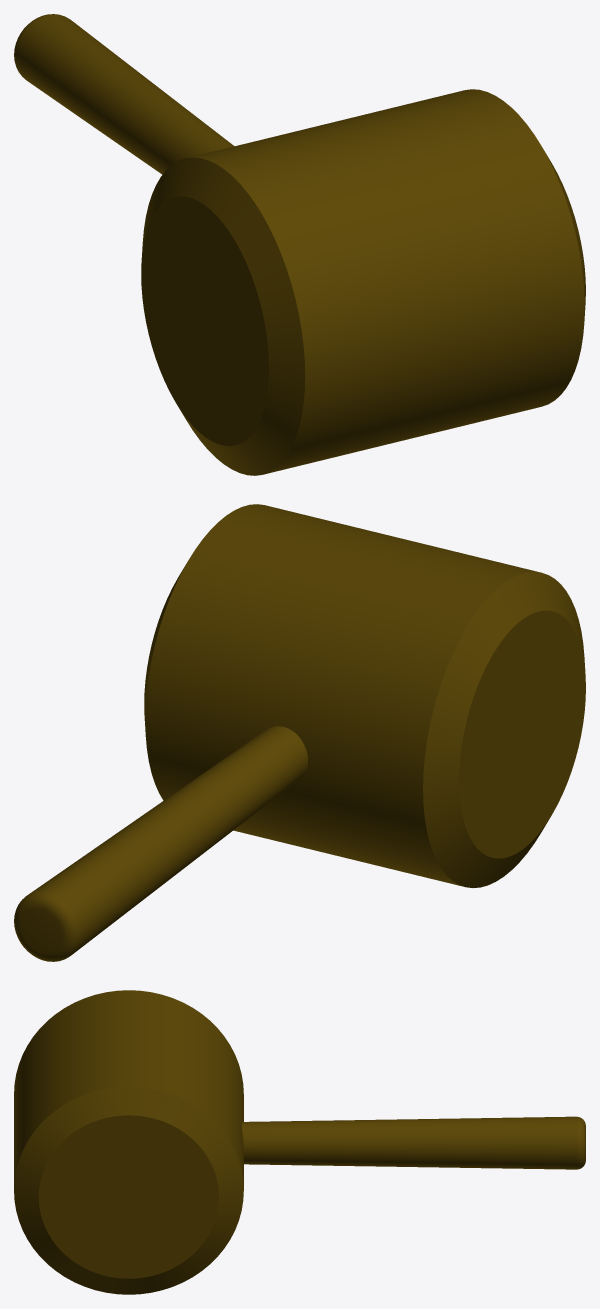
3 renders of one model, top to bottom at view 1: azimuth 30°, elevation 25°; view 2: azimuth 150°, elevation 25°; view 3: azimuth 270°, elevation 25°, orthographic. The views are drawn at different scales.
Visible parts, largest first — view 1: mallet; view 2: mallet; view 3: mallet.
Part boxes in pixels (x1=…): mallet: x1=14, y1=14, x2=585, y2=475; mallet: x1=14, y1=504, x2=585, y2=961; mallet: x1=14, y1=990, x2=585, y2=1294.
Size of the model in its own units: 0.1356 by 0.1207 by 0.3004.
